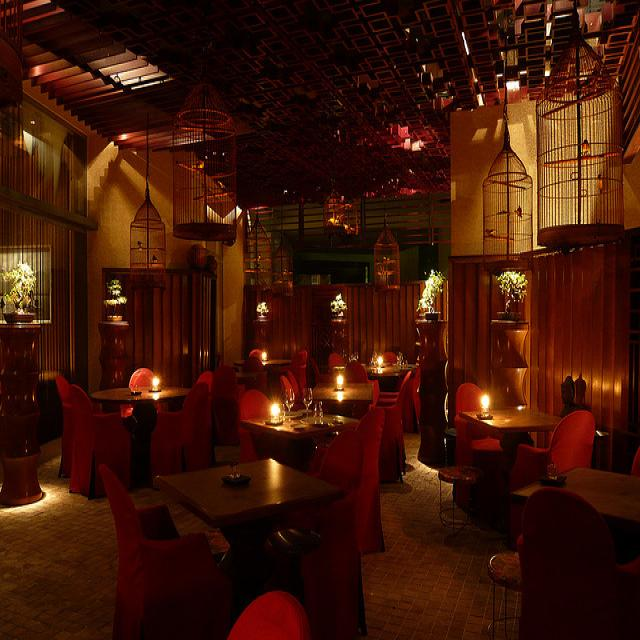Table: (161, 438, 353, 588)
chair: (100, 482, 230, 624), (52, 358, 136, 486), (537, 405, 616, 514), (333, 397, 397, 507), (158, 395, 259, 461), (446, 351, 497, 478)
